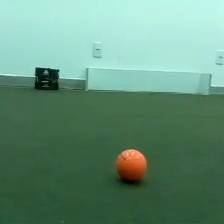ball: (112, 145, 150, 185)
goal: (83, 64, 213, 97)
robot: (31, 64, 62, 91)
